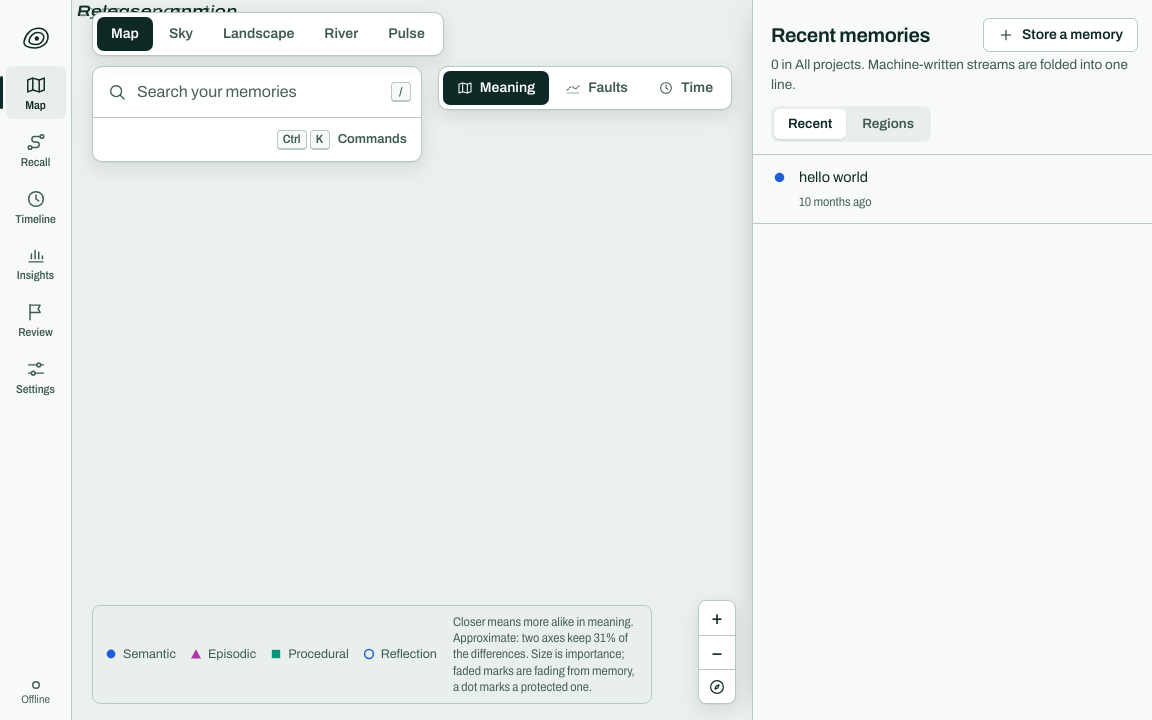
Test: Shell store-memory modal integration › opens the store-memory modal, and closing it removes the dialog
Click the button "Store a memory" at (1060, 35), box [983,18,1138,52]
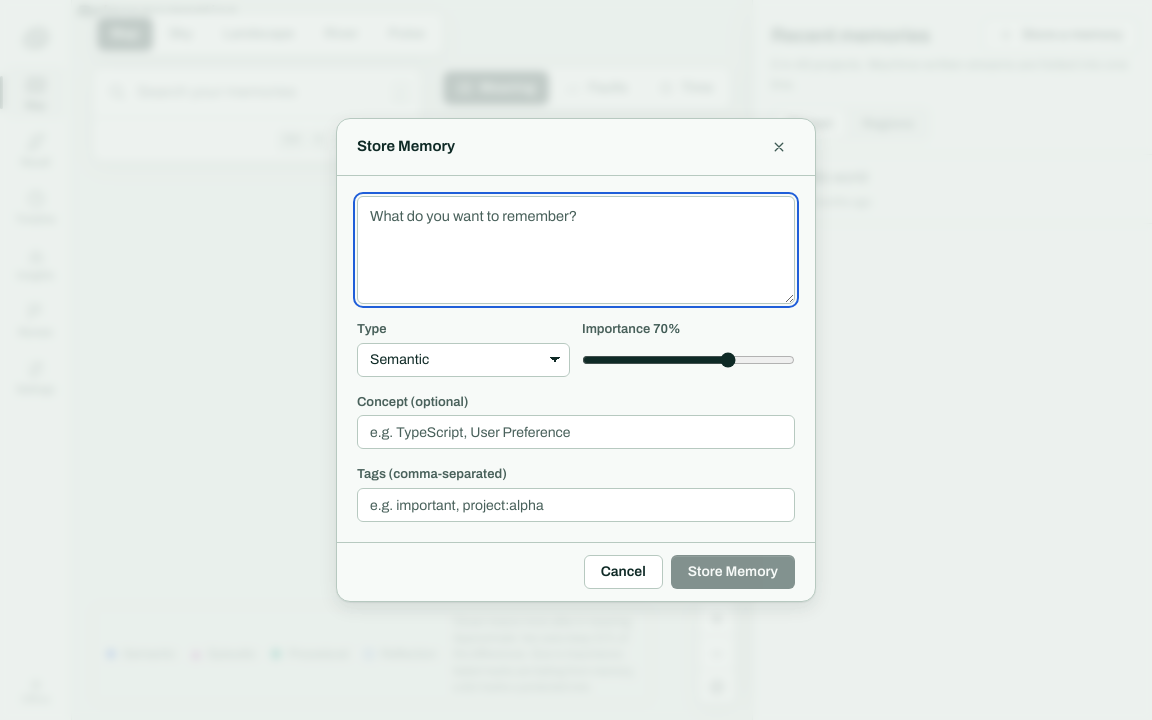
Expected: the dialog is shown, [336,118,816,602]
Click the button named "close" at (779, 147), box [763,131,795,163]
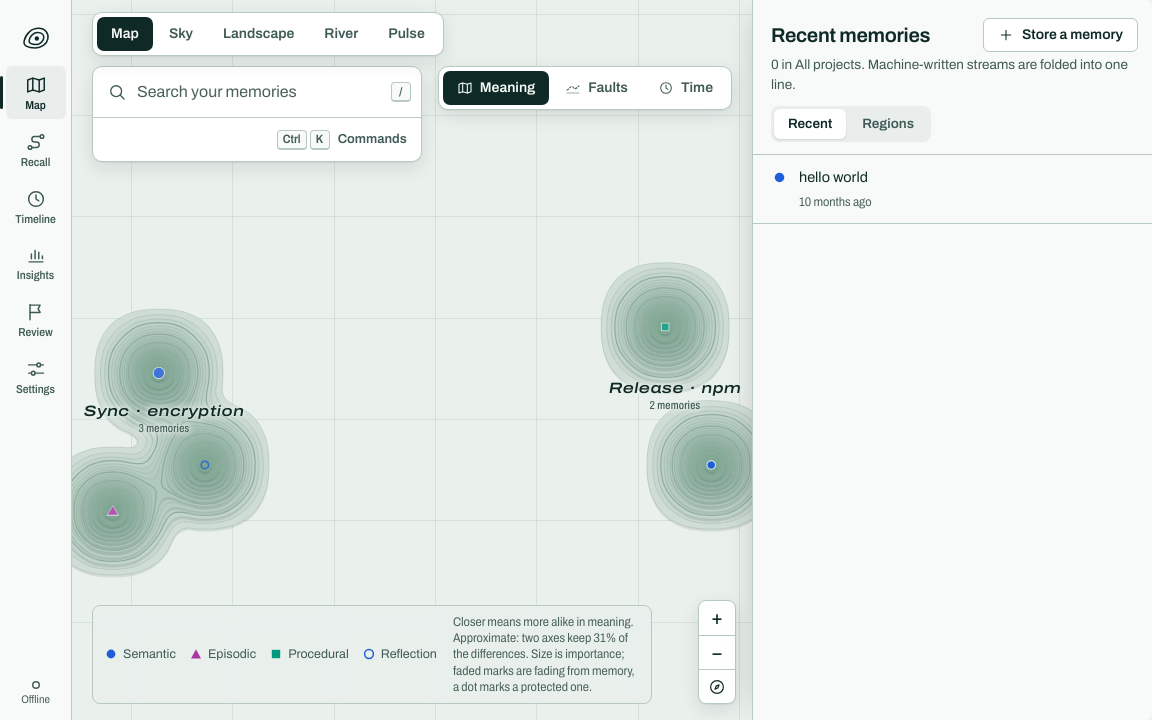
Expected: the dialog is gone
